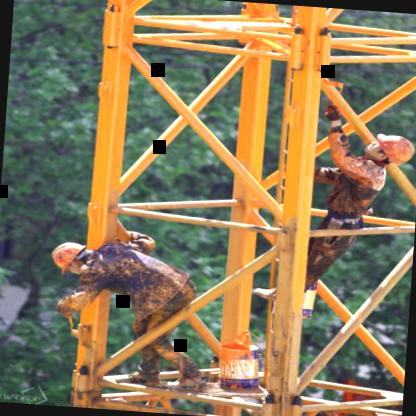helmet: (48, 235, 97, 280), (362, 129, 416, 165)
